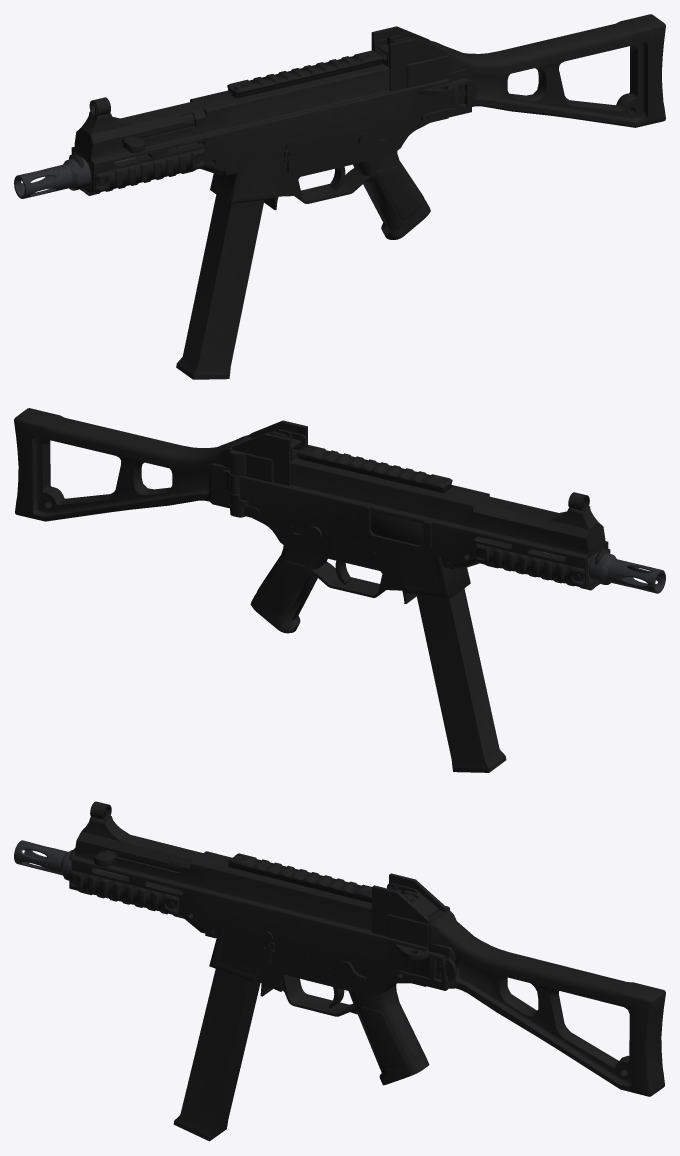
File: ump45.glb
3 renders of one model, top to bottom at view 1: azimuth 30°, elevation 25°; view 2: azimuth 150°, elevation 25°; view 3: azimuth 330°, elevation 25°, orthographic.
Visible parts, largest first — view 1: ump45; view 2: ump45; view 3: ump45.
Part boxes in pixels (x1,y1,x2,y2): ump45: (14,14,665,379); ump45: (14,408,665,772); ump45: (14,801,665,1141).
Size of the model in its own units: 0.69 by 0.3108 by 0.0654.
Materials: 2 (2 with a texture image).
